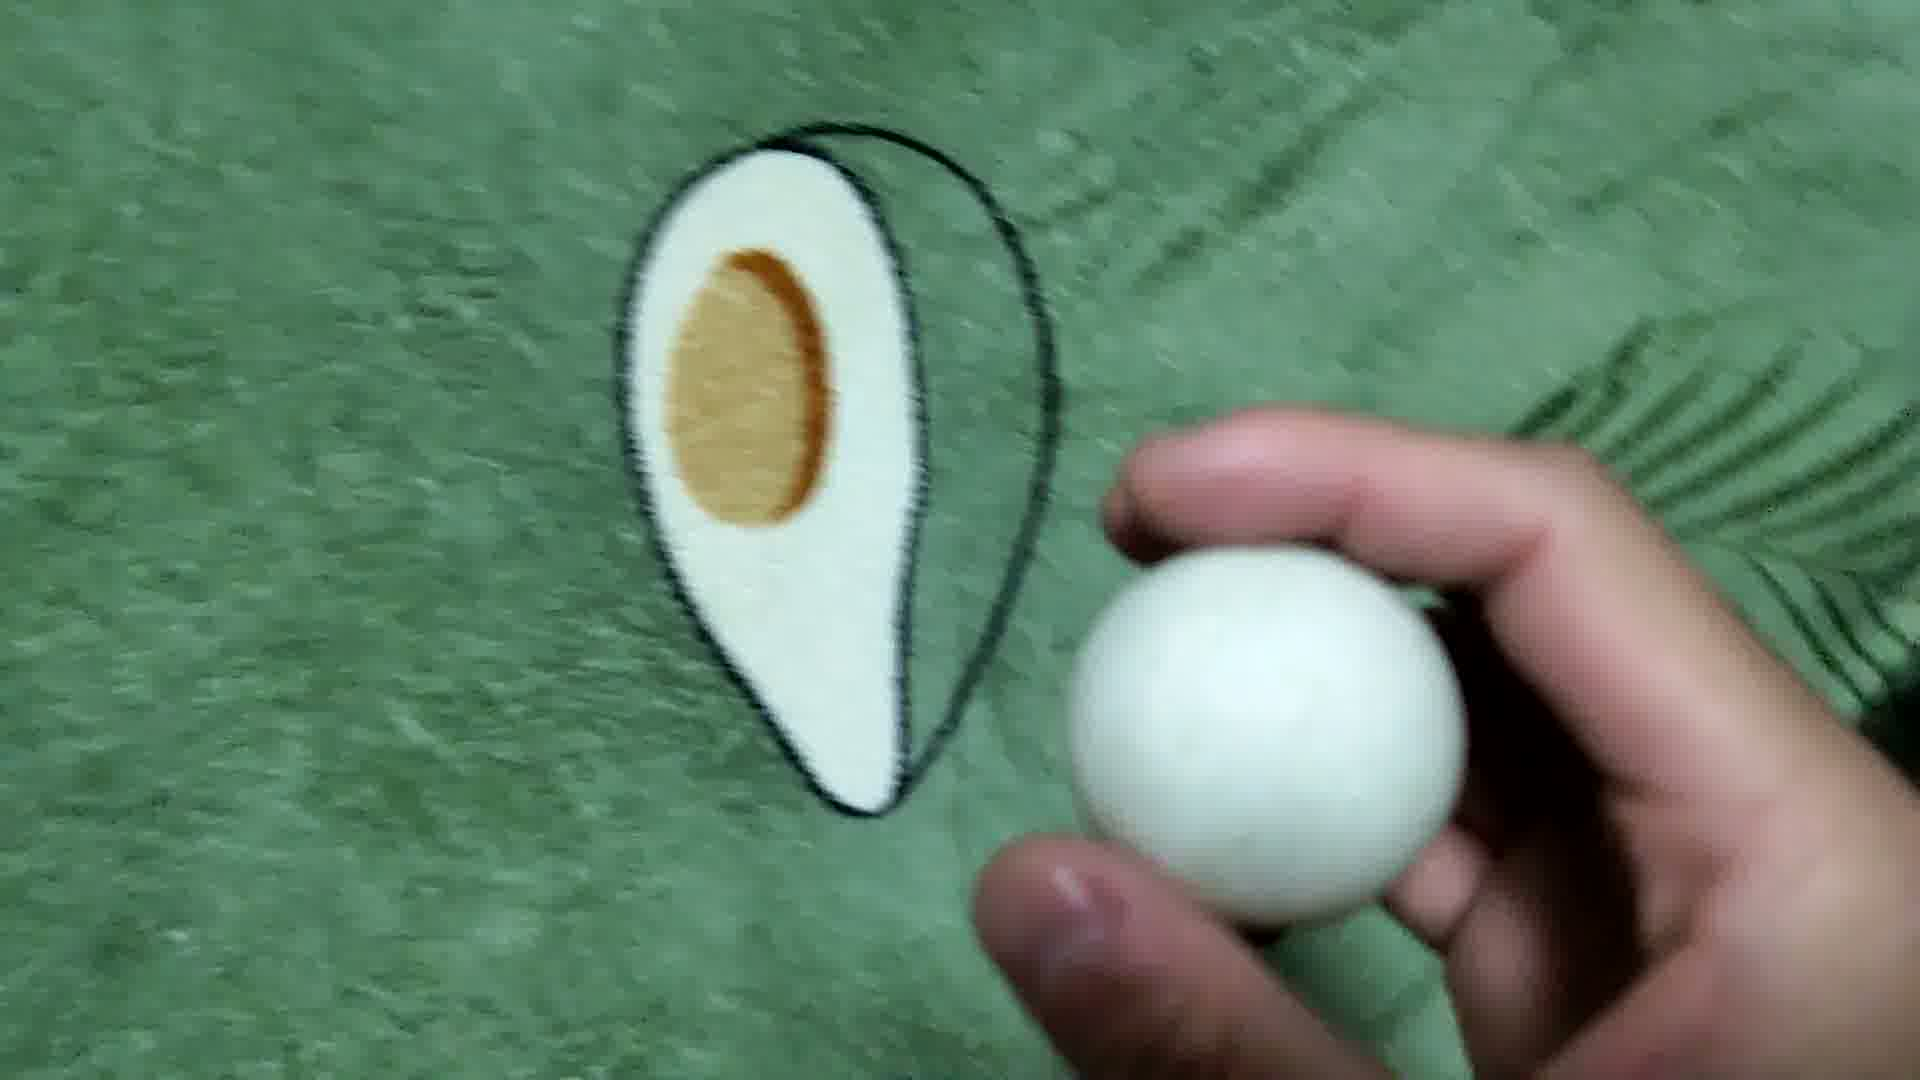Ball: (1069, 542, 1464, 920)
